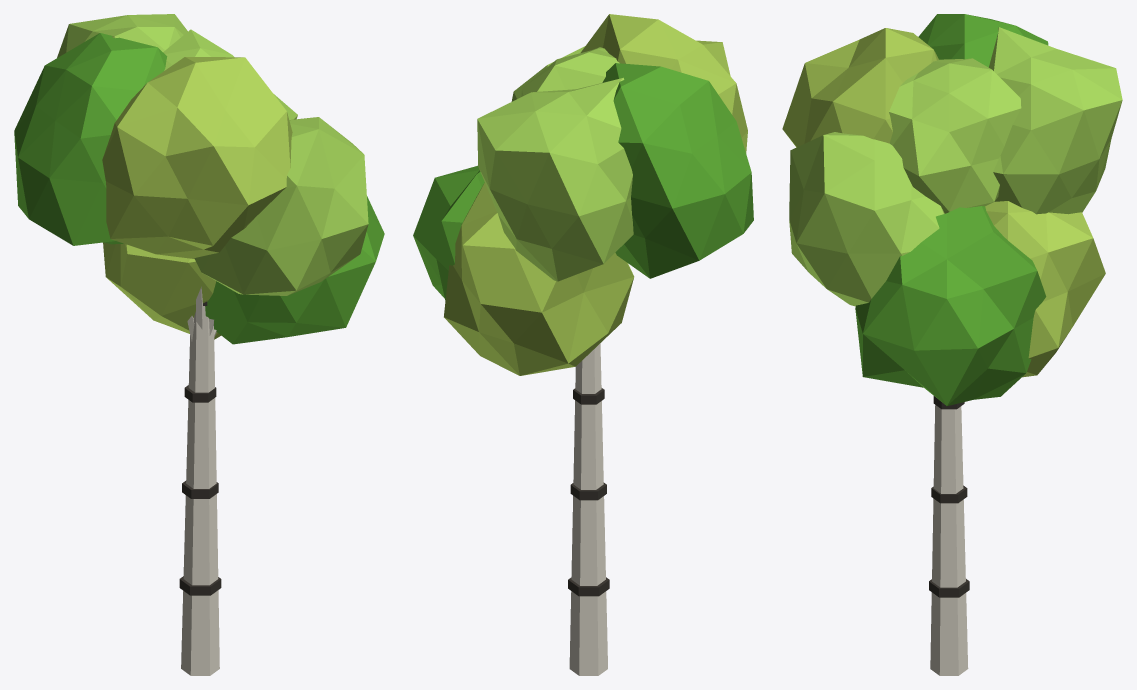
Rendered from tree_birch_3.glb.
3 renders of one model, left to right at view 1: azimuth 30°, elevation 25°; view 2: azimuth 150°, elevation 25°; view 3: azimuth 270°, elevation 25°, orthographic. The views are drawn at different scales.
Visible parts, largest first — view 1: tree_birch_3; view 2: tree_birch_3; view 3: tree_birch_3.
Boxes of the visible parts, left/top/right/bottom form: tree_birch_3: left=14, top=14, right=384, bottom=675; tree_birch_3: left=413, top=14, right=753, bottom=675; tree_birch_3: left=782, top=14, right=1122, bottom=675.
Size of what is drawn, in the model's own units: 3.84 by 7.11 by 3.52.
